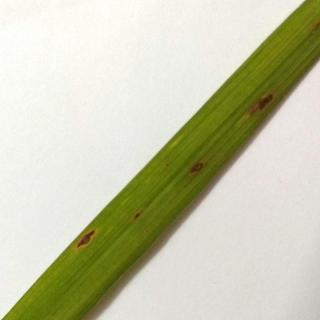Blast: (234, 68, 294, 128), (58, 214, 114, 256), (174, 144, 215, 184)
